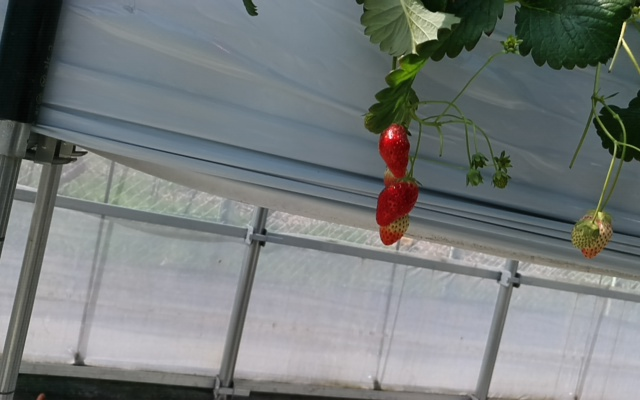GreenStrawberry: (573, 211, 614, 261), (378, 214, 412, 247)
MatureStrawberry: (372, 169, 421, 228), (376, 121, 410, 180)
